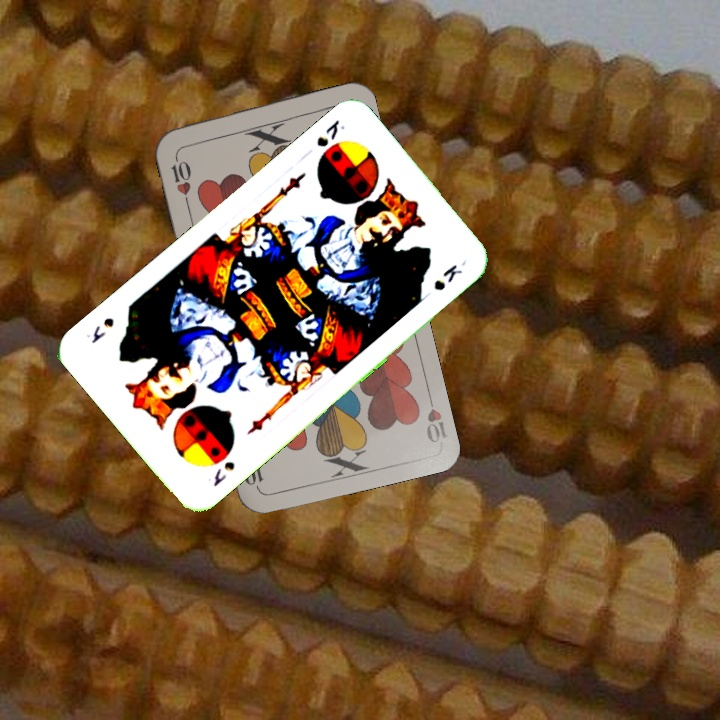H10: (166, 150, 194, 208), (422, 387, 449, 446)
SK: (312, 115, 348, 150), (209, 457, 238, 490)
